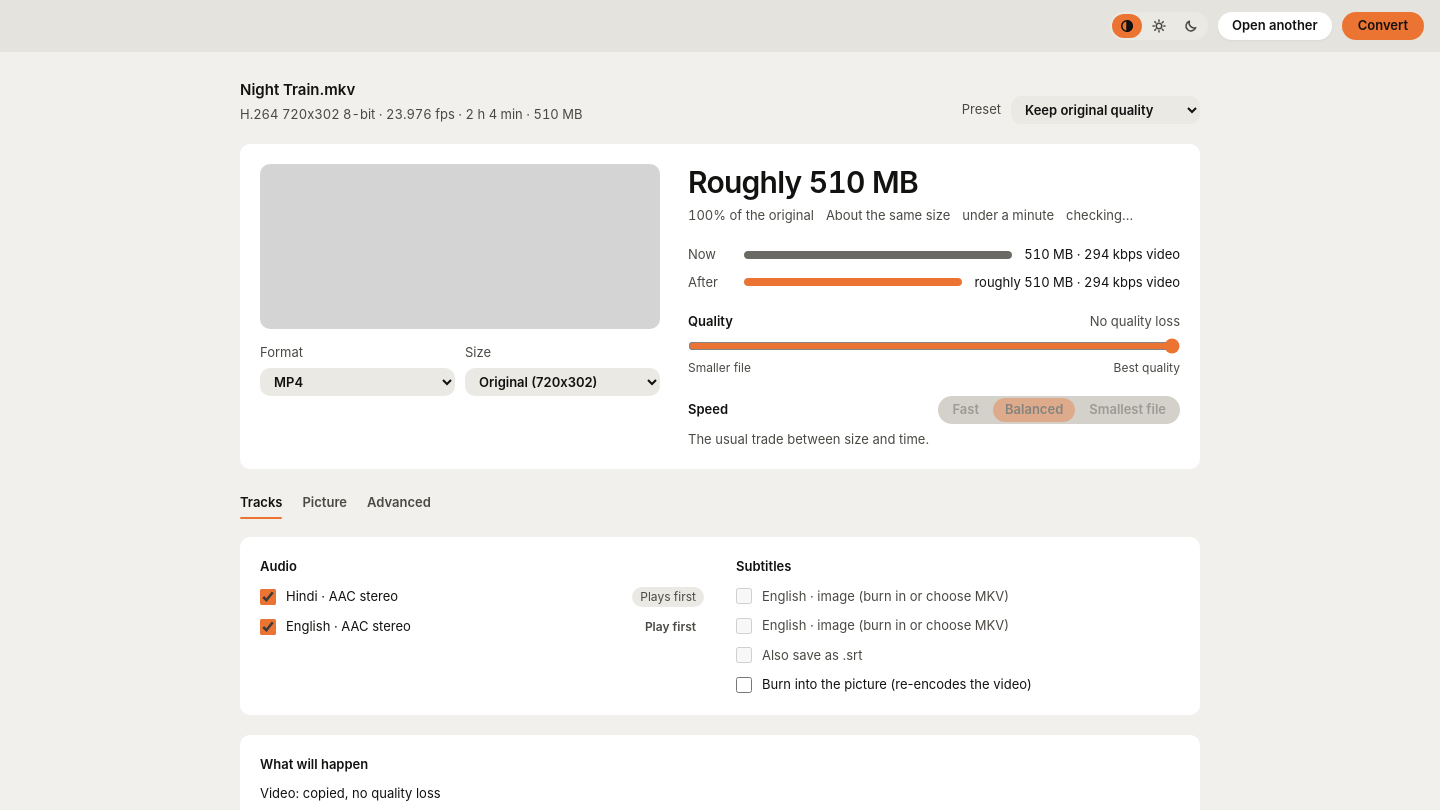
the settings tabs › greys out image subtitles MP4 cannot hold, and burning names the track
The width and height of the screenshot is (1440, 810).
Expected: the 1st checkbox labelled "English · image (burn in or choose MKV)" is disabled, left=736, top=588, right=752, bottom=604
Step 1. Click the checkbox labelled "Burn into the picture (re-encodes the video)" → point(744, 685), box left=736, top=677, right=752, bottom=693
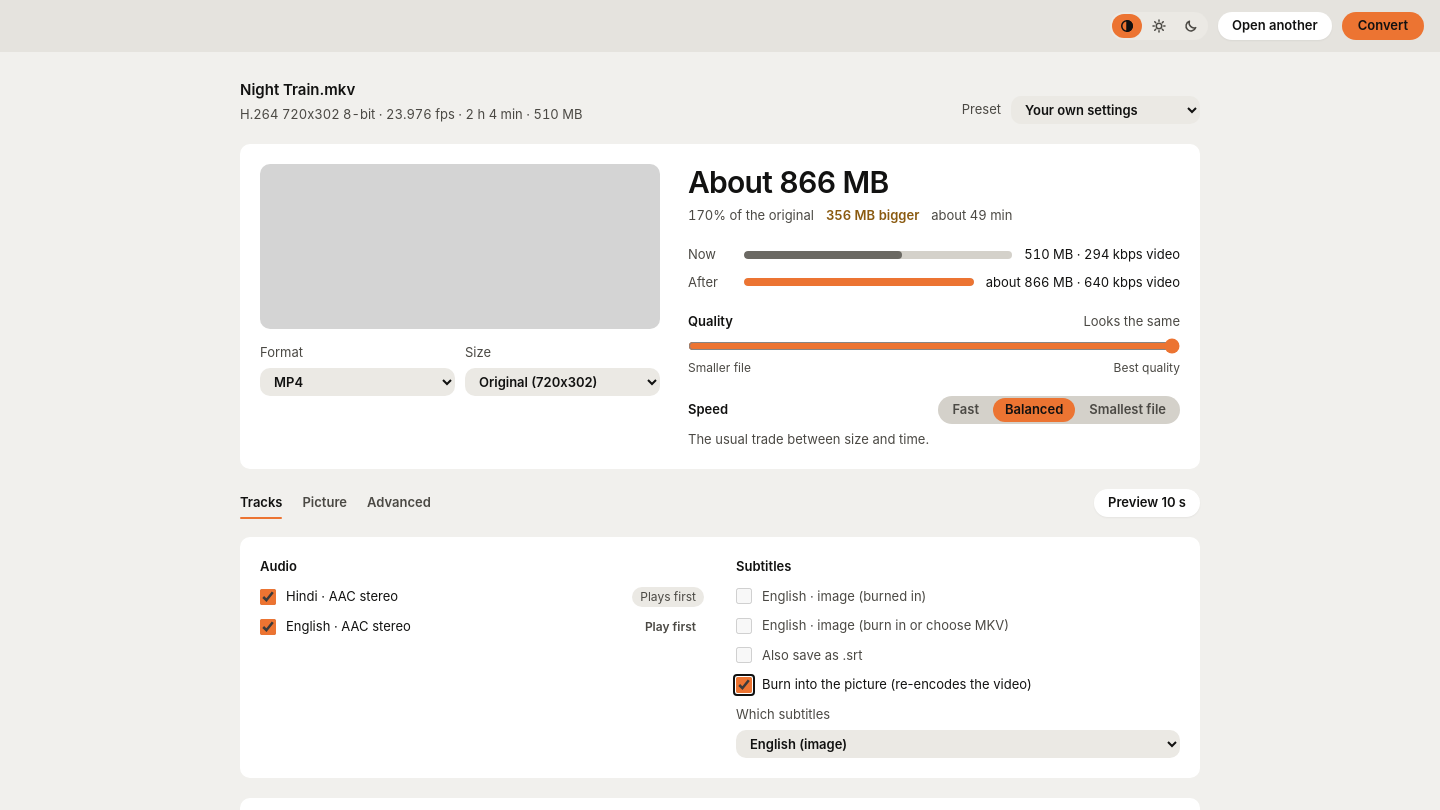
Expected: the dropdown labelled "Which subtitles" is shown, left=736, top=730, right=1180, bottom=758
